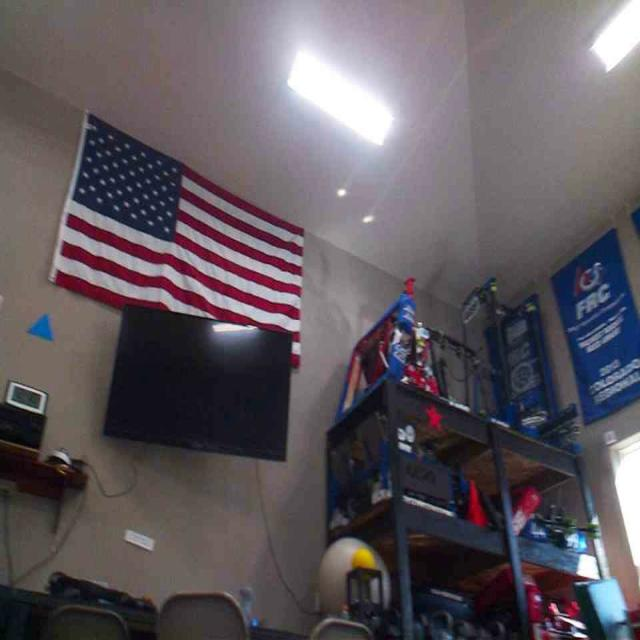star_red: (424, 404, 443, 431)
triangle_blue: (26, 313, 56, 342)
